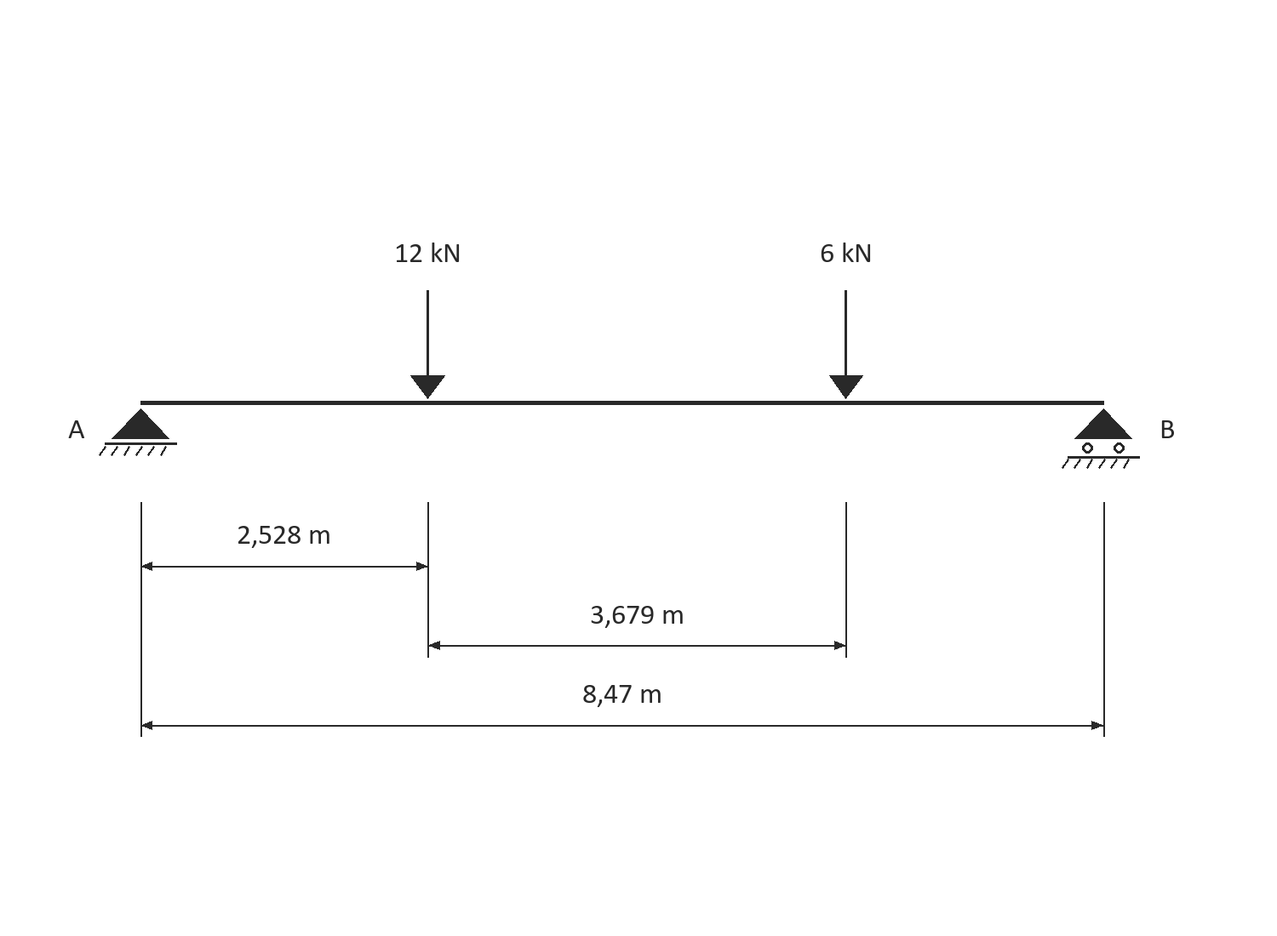pin_support: (99, 408, 177, 456)
point_load: (410, 290, 445, 399), (829, 290, 863, 399)
roller_support: (1062, 408, 1140, 469)
